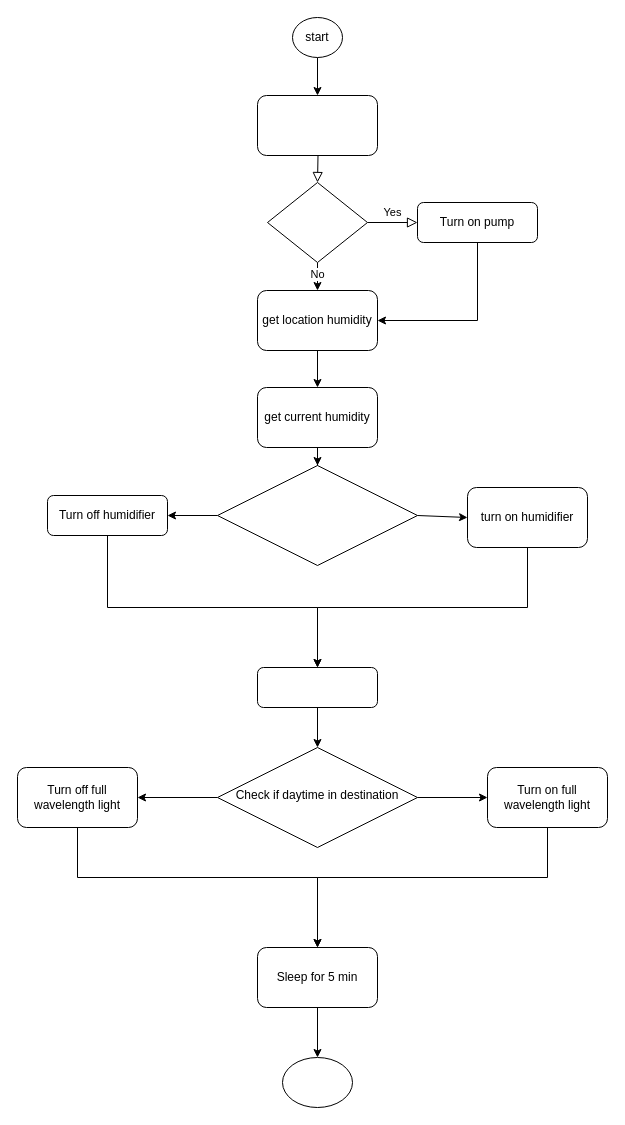
The diagram is 625 pixels wide and 1125 high, and some of its shapes have lost their labels. The box of each missing label's shape, as (x1, y1, x2, y2) in pixels:
check soil moisture level: (256, 94, 378, 156)
Get sunset, sunrise and current time: (256, 666, 378, 708)
if curr humidity < loc humidity: (216, 464, 418, 566)
Moisture level <limit: (266, 182, 368, 262)
Stop: (282, 1056, 352, 1108)
